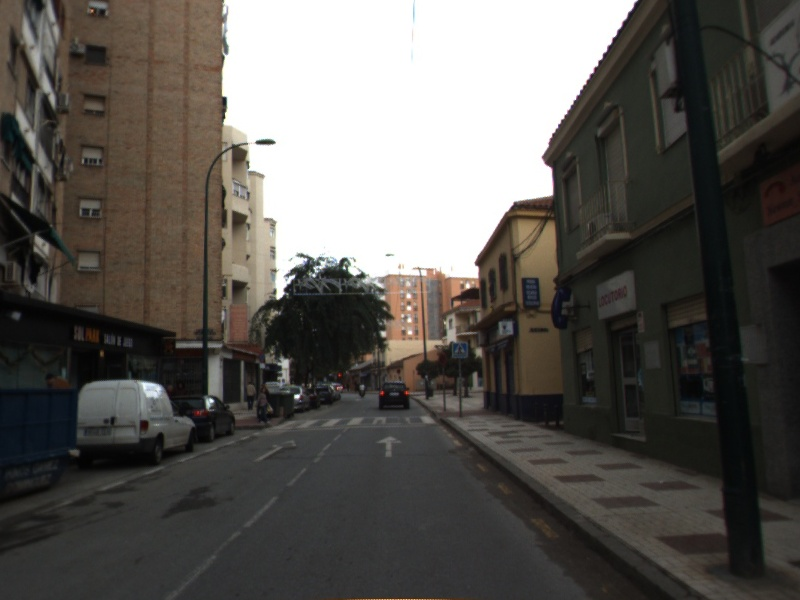STRAIGHT: (251, 438, 298, 464), (374, 434, 404, 458)
